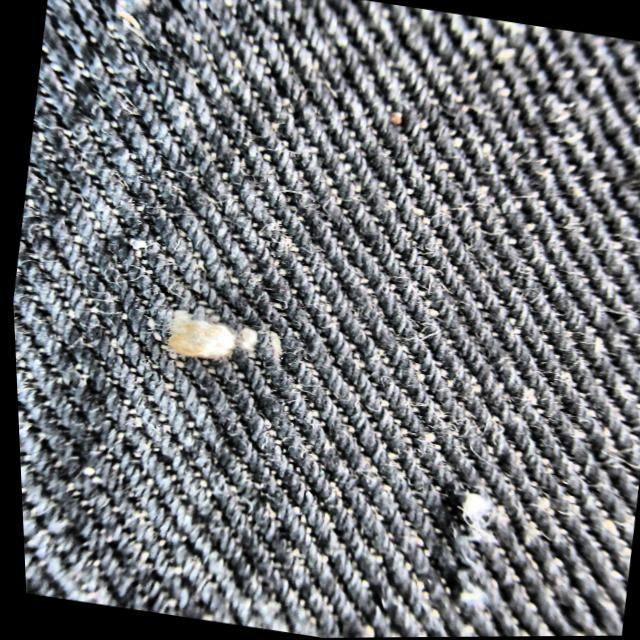Hole: (122, 289, 300, 395), (410, 478, 512, 608)
